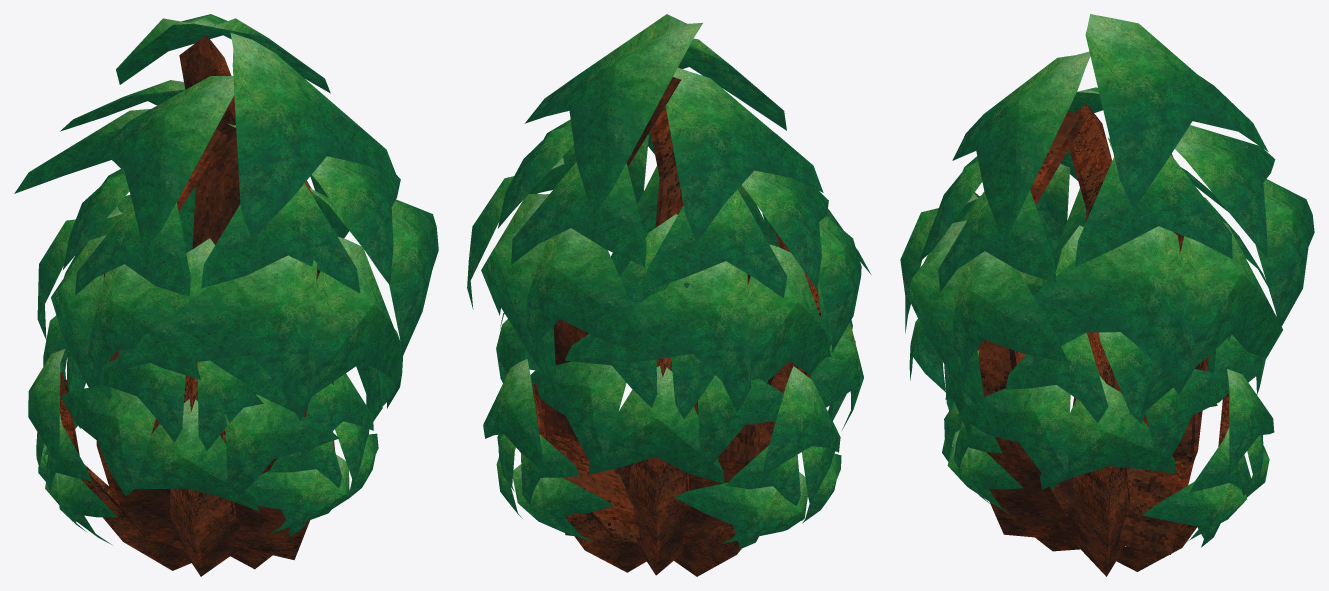
Rendered from shrub_05.glb.
3 renders of one model, left to right at view 1: azimuth 30°, elevation 25°; view 2: azimuth 150°, elevation 25°; view 3: azimuth 270°, elevation 25°, orthographic. The views are drawn at different scales.
Parts seen in each view (by area): view 1: SHRUB_05; view 2: SHRUB_05; view 3: SHRUB_05.
Part boxes in pixels (<box>): SHRUB_05: <box>14,14,438,576</box>; SHRUB_05: <box>467,14,871,576</box>; SHRUB_05: <box>900,14,1314,576</box>.
Bounding box in the file's own units: 2.57 × 3.67 × 2.59.
1 material, 1 textured.
